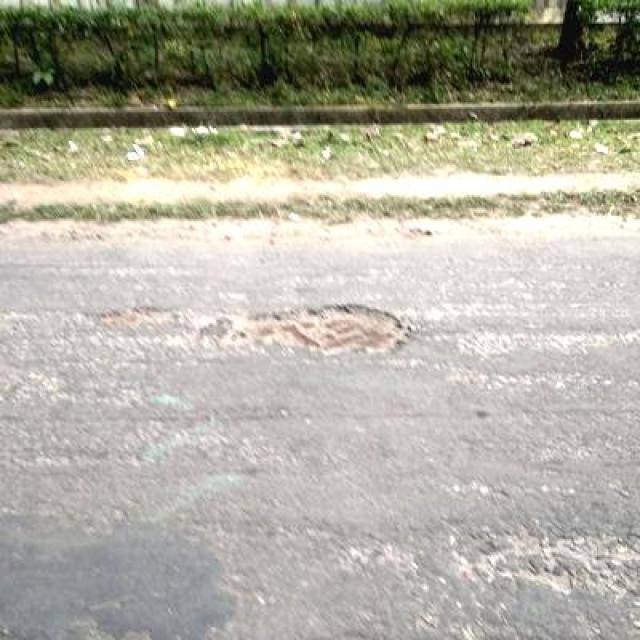pothole: (214, 301, 410, 363)
